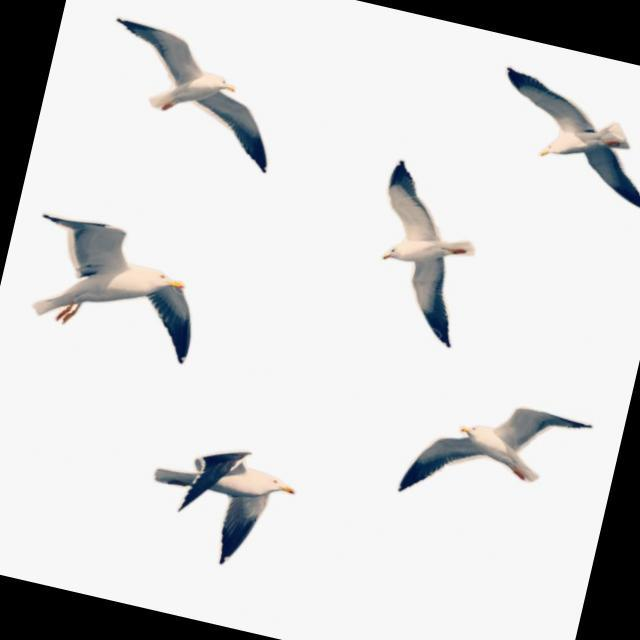bird: (85, 11, 300, 181), (14, 202, 222, 372), (390, 378, 599, 536), (339, 152, 498, 354), (132, 422, 310, 583), (474, 60, 640, 215)
